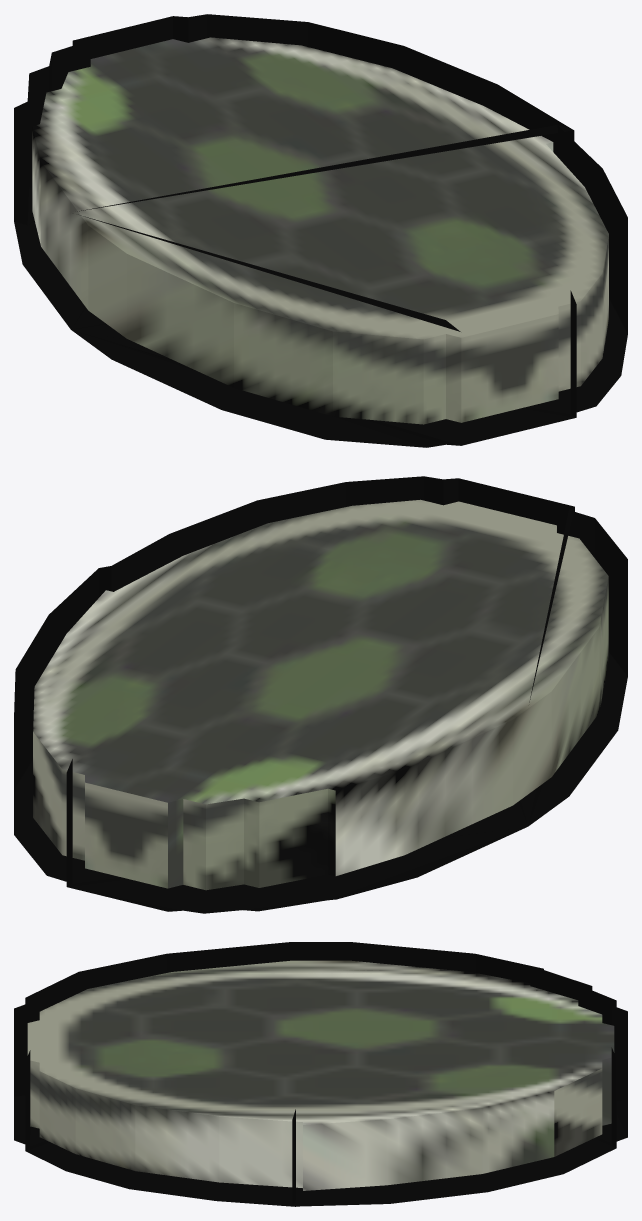
Rendered from Building_ActivatorCountdown_Things_Building_Mech_ActivatorCountdown.glb.
3 renders of one model, top to bottom at view 1: azimuth 30°, elevation 25°; view 2: azimuth 150°, elevation 25°; view 3: azimuth 270°, elevation 25°, orthographic. The views are drawn at different scales.
Parts seen in each view (by area): view 1: Body, Outline; view 2: Body, Outline; view 3: Body, Outline.
Boxes of the visible parts, x1,y1,x2,y2 form: Body: (32, 37, 608, 424); Outline: (14, 14, 627, 447); Body: (33, 499, 608, 890); Outline: (14, 476, 627, 913); Body: (27, 960, 614, 1190); Outline: (14, 942, 627, 1206).
Bounding box in the file's own units: 0.9696 × 0.2527 × 1.43.
2 materials, 1 textured.
